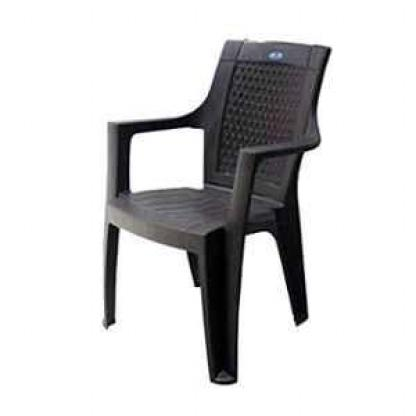chair: (98, 38, 346, 387)
